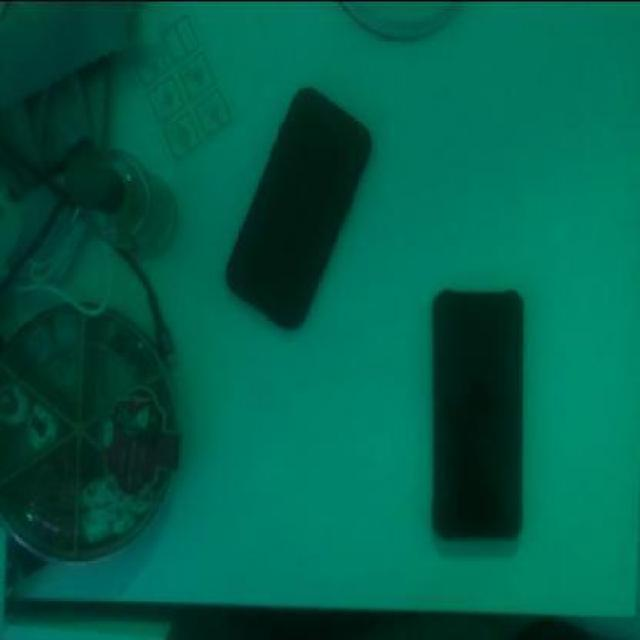mobile: (226, 83, 377, 331), (428, 288, 524, 543)
